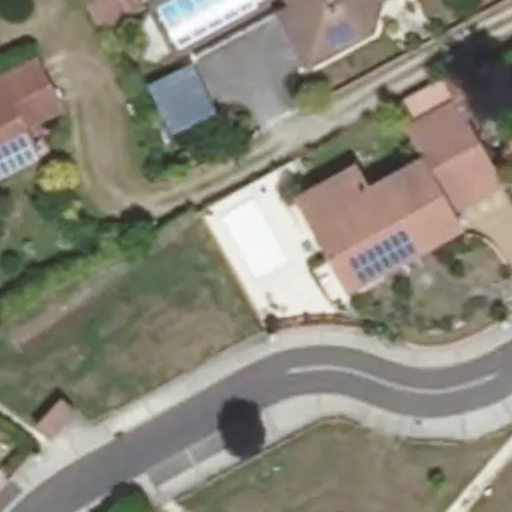pool: (224, 221, 287, 262)
